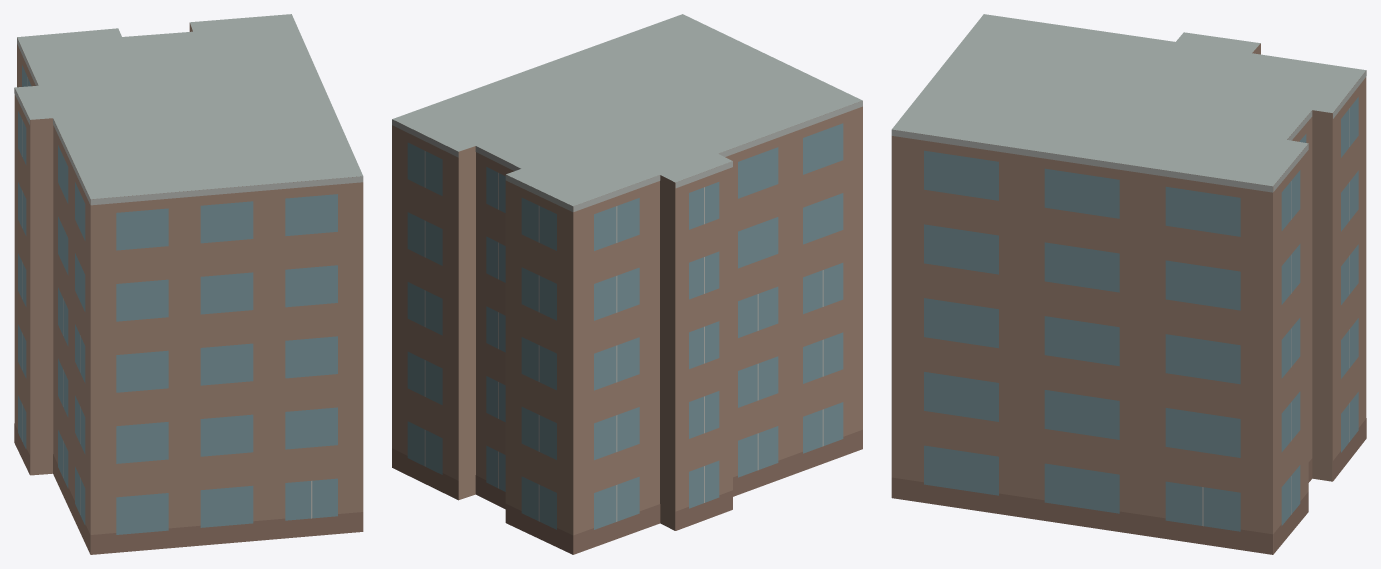
Rendered from survey-upis-32850273.glb.
The picture shows the model from 3 angles, left to right: view 1: azimuth 30°, elevation 25°; view 2: azimuth 150°, elevation 25°; view 3: azimuth 270°, elevation 25°; orthographic projection. The views are drawn at different scales.
Parts seen in each view (by area): view 1: survey-upis-32850273.tmp; view 2: survey-upis-32850273.tmp; view 3: survey-upis-32850273.tmp.
Boxes of the visible parts, x1,y1,x2,y2 form: survey-upis-32850273.tmp: (14, 14, 363, 554); survey-upis-32850273.tmp: (392, 14, 862, 554); survey-upis-32850273.tmp: (891, 14, 1366, 554).
Bounding box in the file's own units: 14.3 × 14.25 × 16.65.
